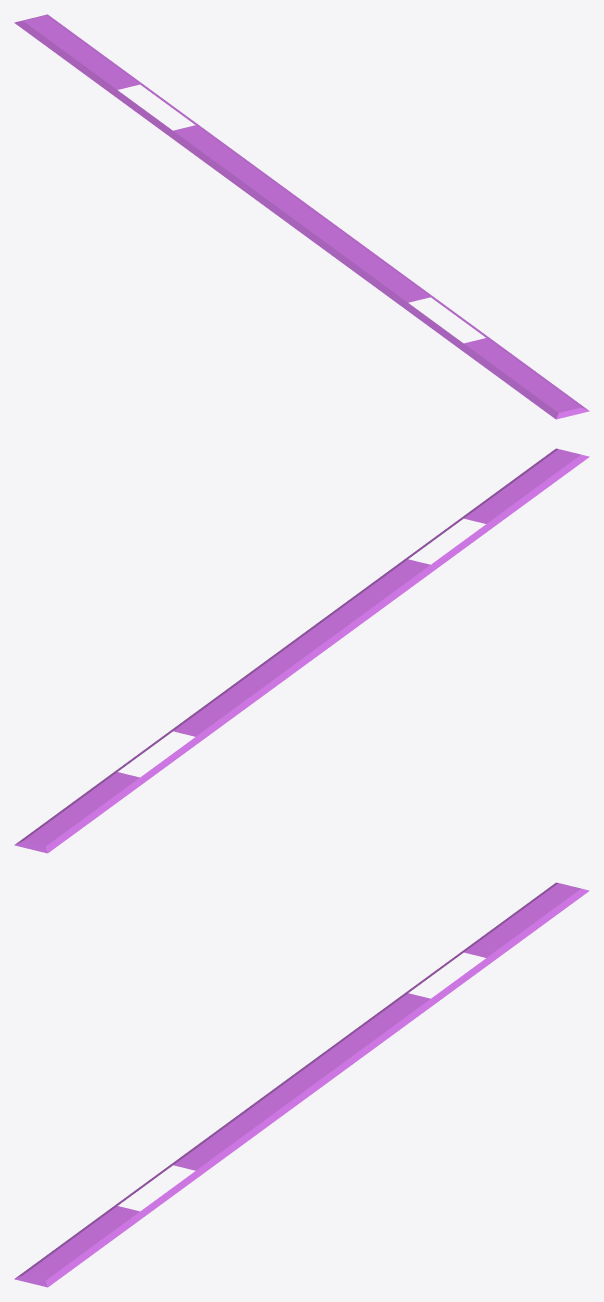
The model's file is cluster_10.fbx.
3 views of the same model, one above another, from view 1: azimuth 30°, elevation 25°; view 2: azimuth 150°, elevation 25°; view 3: azimuth 330°, elevation 25° (orthographic).
Visible parts, largest first — view 1: cluster_10; view 2: cluster_10; view 3: cluster_10.
Part boxes in pixels (left/top/right/bottom): cluster_10: left=14, top=14, right=589, bottom=419; cluster_10: left=14, top=448, right=589, bottom=853; cluster_10: left=14, top=882, right=589, bottom=1287.
Bounding box in the file's own units: 6000 × 500 × 166011.
